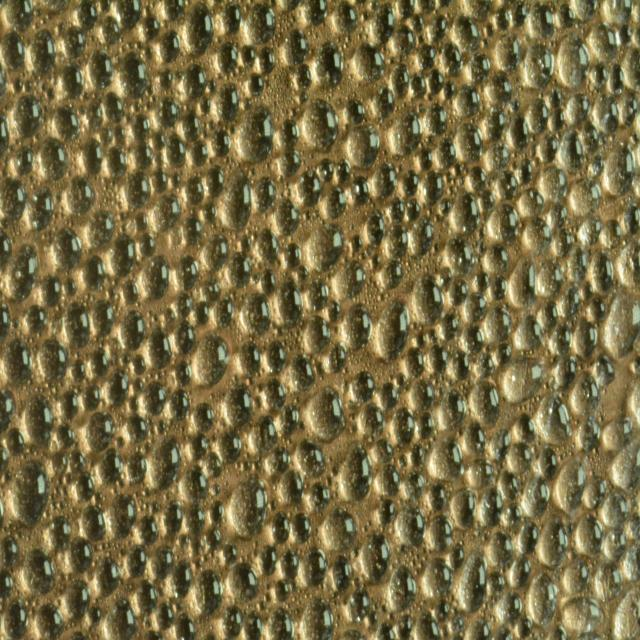dr: (11, 458, 51, 526), (602, 288, 640, 358), (230, 476, 268, 540), (236, 103, 275, 165), (309, 386, 345, 444), (502, 355, 544, 403), (378, 300, 410, 362), (195, 331, 230, 387), (302, 97, 338, 150), (307, 224, 345, 274), (222, 171, 252, 233), (341, 441, 372, 501), (604, 140, 635, 198), (148, 436, 182, 488), (181, 5, 214, 58), (7, 244, 37, 302), (388, 107, 422, 158), (559, 596, 604, 634), (538, 395, 573, 443), (459, 552, 486, 614), (557, 37, 590, 86), (538, 516, 569, 568), (21, 548, 55, 595), (413, 275, 444, 326), (360, 530, 391, 581), (300, 595, 334, 640), (27, 28, 58, 77), (555, 459, 583, 513), (26, 394, 55, 446), (428, 437, 463, 480), (313, 38, 343, 88), (104, 596, 138, 640), (348, 124, 380, 170), (333, 260, 367, 303), (342, 304, 373, 351), (226, 560, 259, 604), (52, 225, 82, 273), (322, 509, 356, 551), (569, 370, 600, 416), (353, 41, 386, 84), (40, 135, 70, 182), (566, 176, 600, 217), (13, 94, 43, 140), (277, 276, 304, 327), (530, 573, 555, 628), (524, 44, 555, 88), (119, 52, 148, 99), (63, 174, 96, 215), (0, 174, 27, 224), (109, 492, 136, 542), (490, 198, 518, 246), (245, 2, 276, 45), (510, 257, 536, 308), (4, 338, 31, 387), (224, 379, 251, 428), (445, 235, 477, 276), (194, 569, 223, 614), (64, 298, 90, 348), (140, 254, 168, 300), (85, 208, 114, 252), (152, 191, 181, 235), (451, 192, 480, 236), (39, 337, 68, 381), (389, 564, 416, 611), (522, 471, 549, 517), (295, 438, 326, 478), (616, 239, 640, 290), (472, 381, 498, 428), (449, 487, 477, 530), (86, 412, 116, 452), (559, 128, 585, 174), (3, 596, 30, 640), (536, 166, 568, 203), (587, 24, 618, 62), (511, 314, 542, 352), (396, 504, 424, 546), (590, 249, 615, 296), (534, 260, 564, 299), (575, 512, 602, 555), (423, 556, 452, 596), (454, 123, 482, 164), (243, 292, 269, 336), (87, 48, 114, 90), (302, 545, 328, 588), (35, 602, 64, 640), (29, 187, 54, 231), (111, 234, 136, 278), (223, 253, 253, 289), (528, 3, 554, 44), (440, 389, 466, 430), (592, 94, 619, 133), (495, 32, 521, 72), (408, 214, 434, 254), (252, 413, 278, 453), (120, 307, 144, 350), (282, 28, 309, 66), (452, 13, 479, 51), (357, 400, 384, 438), (0, 31, 26, 70), (67, 534, 92, 574), (124, 170, 151, 207), (454, 82, 481, 119), (140, 378, 167, 415), (51, 107, 82, 139), (274, 197, 300, 235), (484, 305, 510, 343), (64, 578, 90, 616), (489, 528, 513, 569), (484, 71, 512, 106), (605, 417, 632, 453), (562, 559, 589, 595), (602, 492, 628, 529), (4, 1, 34, 33), (573, 318, 597, 358), (305, 315, 330, 353), (148, 329, 171, 370), (181, 63, 207, 99), (431, 134, 457, 170), (480, 107, 506, 143), (526, 217, 552, 253), (202, 234, 228, 270), (174, 255, 200, 291), (596, 565, 622, 601), (81, 506, 107, 542), (59, 60, 84, 97), (217, 82, 240, 122), (599, 1, 633, 28), (392, 407, 416, 445), (280, 468, 304, 506), (332, 1, 358, 36), (290, 354, 316, 389), (602, 529, 627, 565), (255, 227, 279, 264), (95, 559, 121, 593), (371, 5, 396, 40), (238, 339, 261, 377), (305, 276, 329, 312), (410, 378, 434, 414), (565, 93, 591, 126), (268, 607, 294, 640), (222, 601, 244, 640), (621, 47, 640, 92), (164, 132, 187, 169), (106, 369, 129, 406), (154, 94, 179, 128), (82, 255, 106, 290), (568, 244, 589, 284), (82, 138, 104, 176), (508, 113, 530, 151), (92, 297, 114, 335), (171, 560, 193, 598), (99, 448, 121, 486), (373, 162, 396, 198), (151, 544, 174, 580), (38, 274, 62, 308), (297, 170, 321, 204), (217, 429, 241, 463), (185, 465, 209, 499), (441, 41, 463, 78), (264, 376, 286, 413), (115, 1, 143, 30), (467, 458, 494, 488), (49, 513, 72, 548), (466, 50, 491, 82), (507, 442, 532, 474), (350, 370, 375, 402), (510, 550, 531, 588), (101, 89, 125, 122), (584, 473, 606, 509), (430, 516, 452, 552), (159, 30, 182, 64), (463, 421, 486, 455), (527, 98, 548, 135), (136, 579, 158, 614), (218, 2, 242, 34), (391, 25, 415, 57), (322, 342, 346, 374), (415, 608, 439, 640), (63, 25, 86, 58), (517, 188, 543, 217), (104, 148, 128, 179), (125, 413, 148, 445), (276, 149, 302, 177), (76, 0, 98, 33), (484, 245, 509, 274), (464, 292, 488, 322), (387, 224, 408, 258), (619, 94, 640, 128), (348, 586, 369, 620), (500, 590, 523, 621), (24, 302, 46, 334), (425, 102, 447, 134), (600, 218, 622, 250), (485, 144, 510, 172), (380, 260, 403, 290), (376, 467, 399, 497), (367, 210, 386, 246), (333, 554, 351, 592), (132, 136, 152, 170), (390, 63, 410, 97), (424, 172, 444, 206), (128, 543, 148, 577), (301, 0, 328, 25), (183, 214, 204, 246), (428, 343, 449, 375), (490, 428, 511, 460), (206, 165, 226, 198), (256, 175, 276, 208), (292, 512, 312, 545), (191, 402, 213, 432), (164, 500, 184, 533), (218, 42, 239, 73), (374, 85, 395, 116), (581, 123, 602, 154), (498, 170, 519, 201), (404, 345, 425, 376), (154, 600, 175, 631), (168, 389, 189, 420), (519, 520, 538, 554), (4, 427, 27, 455), (84, 100, 104, 132), (182, 110, 202, 142), (271, 511, 291, 543), (279, 402, 299, 434), (570, 0, 599, 22), (554, 355, 576, 384), (344, 97, 365, 127), (551, 325, 572, 355), (176, 321, 195, 354), (579, 218, 602, 245), (0, 534, 20, 565), (138, 513, 158, 544), (462, 327, 484, 355), (267, 338, 285, 372), (14, 146, 35, 175), (463, 0, 492, 21), (327, 187, 346, 219), (100, 15, 120, 45), (404, 471, 424, 501), (501, 502, 523, 529), (267, 447, 289, 474), (128, 452, 146, 485), (595, 356, 614, 387), (186, 500, 205, 531), (59, 390, 78, 421), (278, 120, 299, 148), (372, 438, 393, 466), (174, 612, 195, 640), (0, 388, 14, 430), (468, 165, 488, 194), (553, 228, 573, 257), (561, 286, 581, 315), (623, 201, 640, 235), (215, 295, 233, 327), (581, 416, 599, 448), (539, 445, 557, 477), (186, 173, 203, 206), (130, 114, 150, 142), (379, 381, 399, 409), (74, 473, 94, 501), (55, 422, 75, 450), (260, 543, 278, 574), (556, 3, 575, 32), (441, 311, 460, 340), (539, 299, 558, 328), (452, 347, 468, 381), (539, 135, 559, 162), (351, 176, 369, 206), (448, 279, 468, 306), (91, 347, 109, 377), (516, 414, 536, 441), (82, 383, 101, 411), (281, 549, 298, 580), (474, 354, 495, 379), (470, 615, 491, 640), (292, 65, 312, 91), (309, 482, 328, 509), (284, 240, 301, 270), (429, 481, 446, 511), (212, 128, 230, 156), (418, 42, 436, 70), (494, 3, 512, 31), (402, 168, 420, 196), (547, 108, 565, 136), (189, 140, 208, 166), (501, 471, 518, 500), (245, 611, 262, 640), (257, 47, 275, 74), (162, 1, 184, 23), (428, 69, 446, 95), (489, 274, 507, 300), (416, 414, 434, 440), (487, 572, 505, 598), (175, 359, 192, 386), (246, 72, 265, 96), (142, 15, 160, 40), (590, 64, 608, 89), (189, 431, 207, 456), (389, 196, 405, 224), (260, 265, 276, 293), (0, 566, 14, 598), (550, 201, 567, 227), (122, 279, 139, 305), (588, 296, 606, 320), (139, 233, 156, 258), (378, 499, 395, 524), (609, 65, 624, 93), (519, 157, 534, 185), (450, 542, 465, 570), (432, 14, 448, 40), (512, 2, 528, 28), (151, 168, 168, 192), (411, 73, 426, 100), (176, 293, 192, 318), (396, 614, 412, 639), (317, 158, 334, 181), (515, 615, 532, 638), (194, 300, 209, 326), (206, 452, 221, 478), (50, 451, 66, 475), (202, 280, 221, 300), (377, 620, 396, 640), (272, 580, 290, 601), (336, 158, 351, 183), (67, 450, 84, 472), (406, 197, 422, 220), (419, 146, 433, 172), (240, 44, 255, 68), (327, 300, 342, 324), (434, 598, 449, 622), (202, 202, 218, 224), (588, 156, 604, 178), (394, 372, 410, 394), (222, 543, 238, 565), (208, 501, 224, 523), (475, 270, 490, 293), (492, 625, 515, 640), (191, 534, 206, 557), (398, 0, 416, 19), (99, 124, 113, 148), (159, 66, 173, 90), (481, 189, 495, 213), (112, 123, 127, 145), (152, 129, 166, 152), (438, 267, 452, 290), (579, 282, 594, 303), (206, 527, 221, 548), (618, 25, 632, 47), (71, 360, 85, 382), (497, 342, 511, 364), (296, 263, 311, 283), (442, 78, 456, 99), (410, 445, 424, 466), (134, 212, 148, 232), (132, 354, 146, 374), (239, 234, 253, 253), (88, 604, 101, 624), (549, 88, 561, 109), (178, 532, 190, 552), (412, 15, 425, 33), (415, 328, 426, 348), (133, 377, 145, 394), (352, 234, 362, 254), (151, 152, 164, 167), (128, 396, 139, 413)
